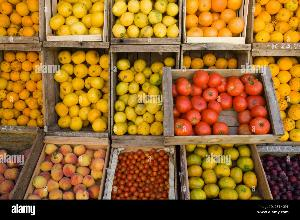lemon: (42, 46, 114, 136), (110, 42, 174, 140), (110, 0, 182, 44), (46, 0, 108, 42)
orange: (0, 46, 52, 136), (185, 0, 247, 44), (252, 1, 300, 47), (1, 0, 38, 44)
peach: (26, 146, 108, 200)
tomato: (172, 68, 266, 138), (110, 145, 172, 199)
